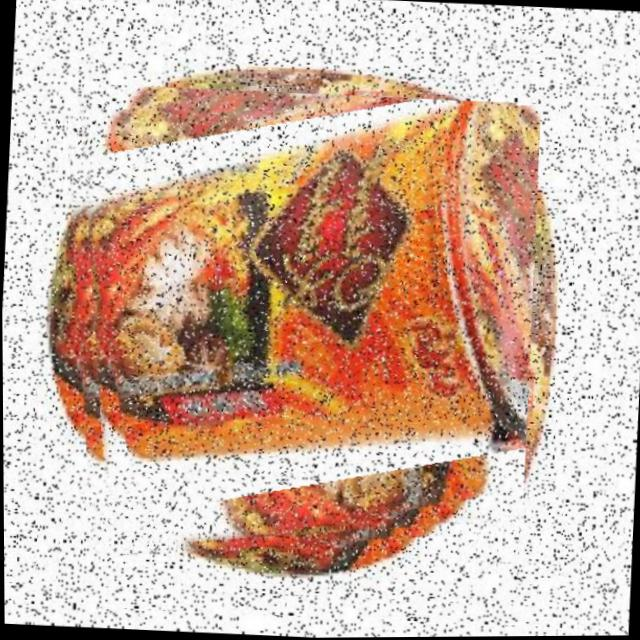Miscellaneous: (54, 81, 544, 570)
